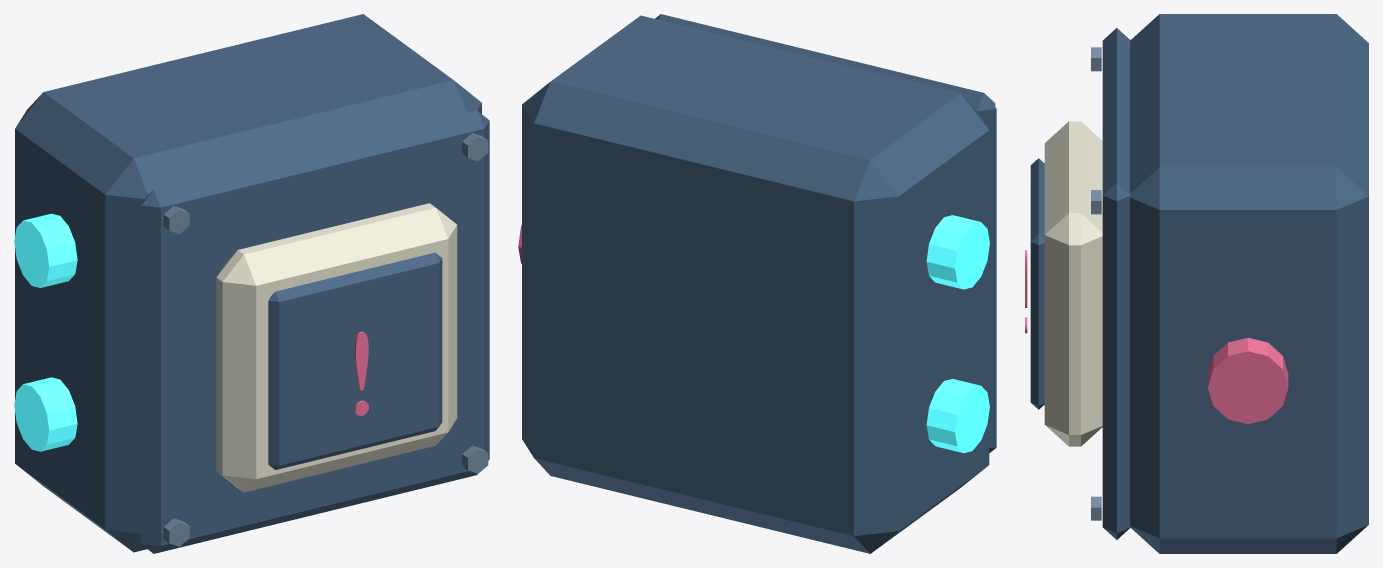
The model's file is not_gate.glb.
The picture shows the model from 3 angles, left to right: view 1: azimuth 30°, elevation 25°; view 2: azimuth 150°, elevation 25°; view 3: azimuth 270°, elevation 25°; orthographic projection.
Parts seen in each view (by area): view 1: Structural core.014, Front armor.014, Chip inset.002, Logic chip.002, Input signal.005, Input signal.004, Logic glyph.002, Rivet.065, Rivet.064, Rivet.067, Rivet.066; view 2: Structural core.014, Front armor.014, Input signal.005, Input signal.004; view 3: Structural core.014, Logic chip.002, Front armor.014, Output signal.002, Chip inset.002.
Boxes of the visible parts, left/top/right/bottom form: Structural core.014: left=15, top=14, right=481, bottom=552; Front armor.014: left=141, top=110, right=489, bottom=553; Chip inset.002: left=268, top=252, right=442, bottom=469; Logic chip.002: left=216, top=203, right=457, bottom=492; Input signal.005: left=14, top=213, right=77, bottom=287; Input signal.004: left=14, top=377, right=77, bottom=451; Logic glyph.002: left=354, top=331, right=368, bottom=415; Rivet.065: left=163, top=206, right=189, bottom=234; Rivet.064: left=163, top=518, right=189, bottom=546; Rivet.067: left=462, top=133, right=488, bottom=161; Rivet.066: left=462, top=445, right=488, bottom=473; Structural core.014: left=522, top=15, right=989, bottom=553; Front armor.014: left=655, top=14, right=996, bottom=452; Input signal.005: left=926, top=215, right=989, bottom=289; Input signal.004: left=926, top=379, right=989, bottom=453; Structural core.014: left=1130, top=14, right=1368, bottom=553; Logic chip.002: left=1044, top=121, right=1102, bottom=446; Front armor.014: left=1102, top=28, right=1130, bottom=539; Output signal.002: left=1208, top=337, right=1288, bottom=424; Chip inset.002: left=1030, top=158, right=1044, bottom=409.
Size of the model in its own units: 1.22 by 1.06 by 0.854.
